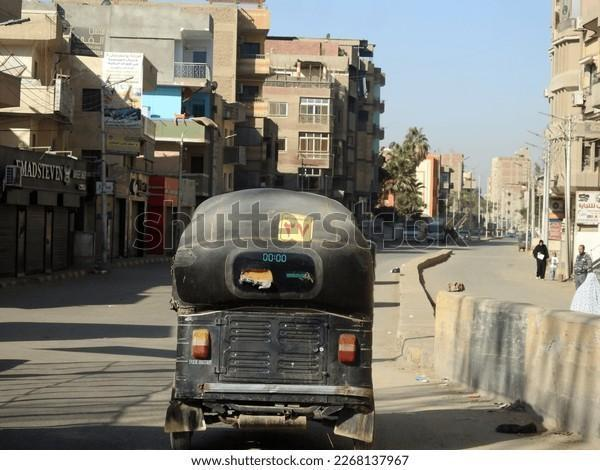keke: (160, 185, 382, 447)
